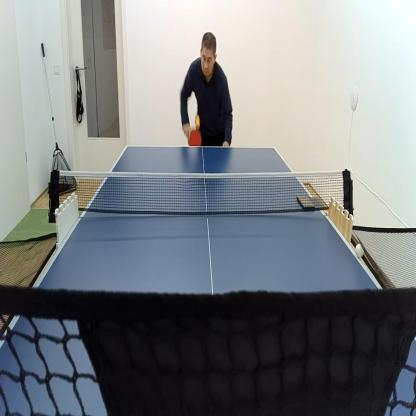Ball: (354, 241, 365, 260), (194, 116, 202, 129)
